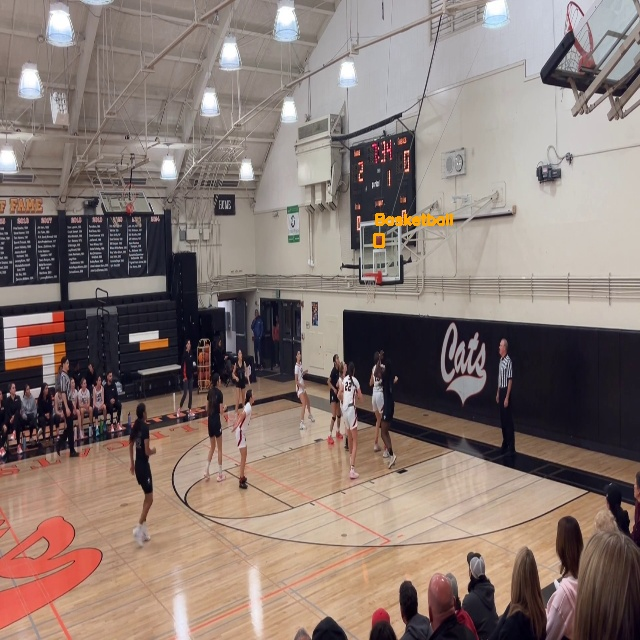Basketball: (374, 234, 383, 246)
